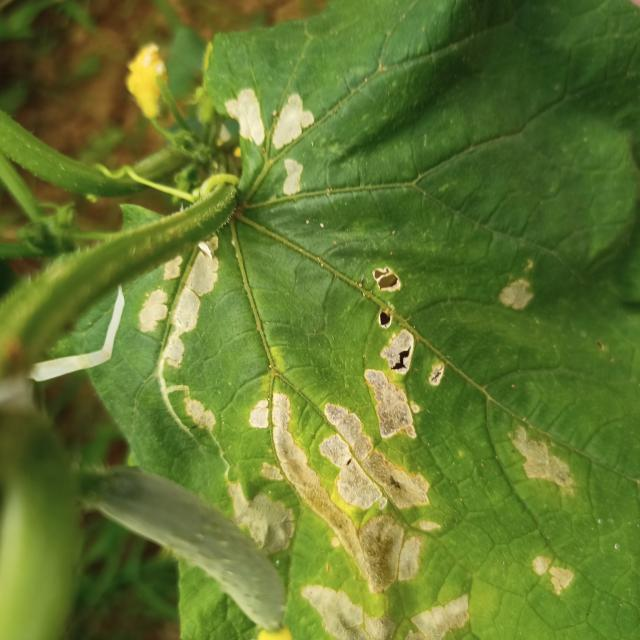disease_cucumber: (140, 227, 573, 637), (227, 87, 310, 199)
